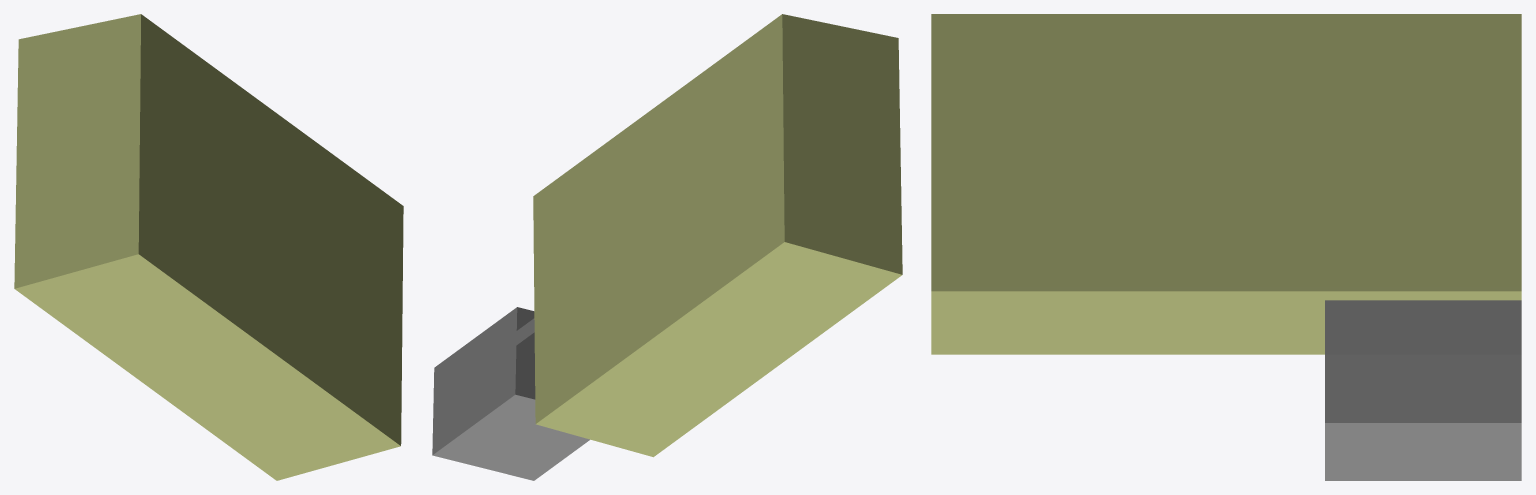
3 renders of one model, left to right at view 1: azimuth 30°, elevation 25°; view 2: azimuth 150°, elevation 25°; view 3: azimuth 270°, elevation 25°, orthographic. The views are drawn at different scales.
Visible parts, largest first — view 1: 0_1_3_2_1_2_1_2_2_1_3; view 2: 0_1_3_2_1_2_1_2_2_1_3; view 3: 0_1_3_2_1_2_1_2_2_1_3.
Part boxes in pixels (bbox=[...]): 0_1_3_2_1_2_1_2_2_1_3: bbox=[14, 14, 403, 480]; 0_1_3_2_1_2_1_2_2_1_3: bbox=[432, 14, 902, 480]; 0_1_3_2_1_2_1_2_2_1_3: bbox=[931, 14, 1521, 480].
Bounding box in the file's own units: 4.61 × 5.76 × 9.
